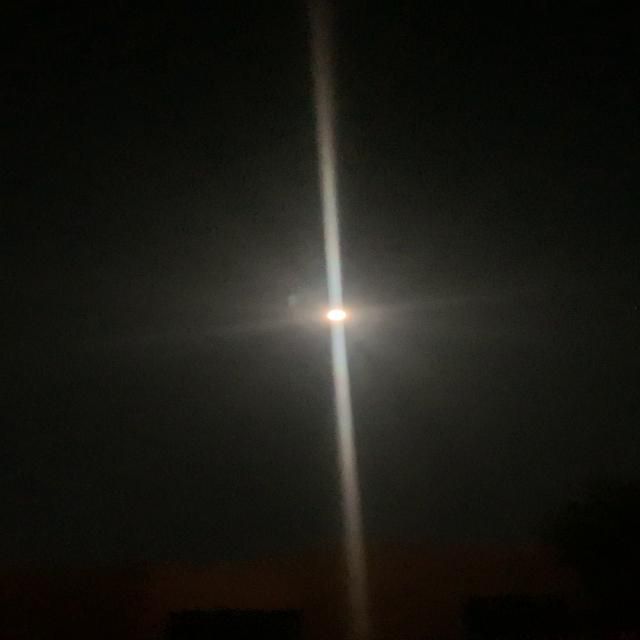moon: (310, 300, 372, 328)
